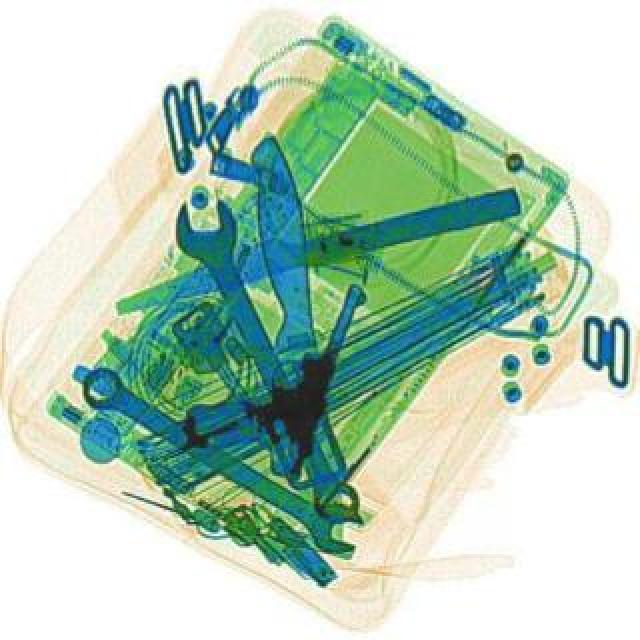gun: (172, 248, 372, 480)
knife: (108, 182, 522, 316), (248, 130, 324, 478)
scissors: (158, 186, 374, 530), (68, 356, 372, 562)
